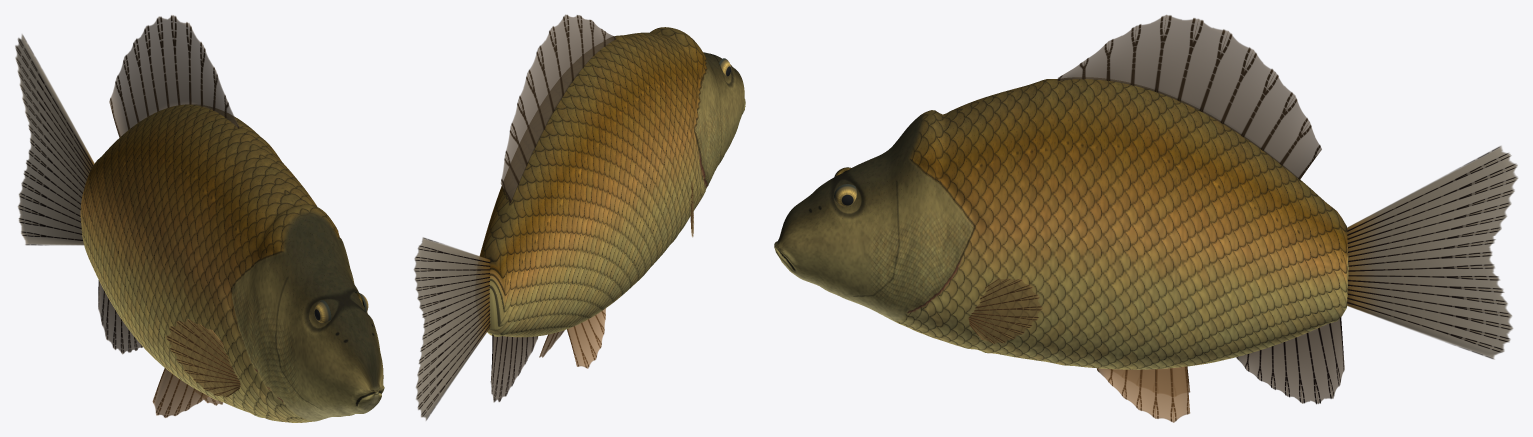
The model's file is karas.glb.
3 renders of one model, left to right at view 1: azimuth 30°, elevation 25°; view 2: azimuth 150°, elevation 25°; view 3: azimuth 270°, elevation 25°, orthographic. The views are drawn at different scales.
Parts seen in each view (by area): view 1: Body, FinCaudal, FinDorsal1, FinPectoral, FinPelvic, FinAnal; view 2: Body, FinCaudal, FinDorsal1, FinAnal, FinPelvic; view 3: Body, FinCaudal, FinDorsal1, FinAnal, FinPelvic, FinPectoral.
Part boxes in pixels (x1,y1,x2,y2): Body: [80, 104, 384, 422]; FinCaudal: [15, 34, 94, 245]; FinDorsal1: [109, 15, 239, 137]; FinPectoral: [166, 319, 240, 397]; FinPelvic: [152, 368, 222, 417]; FinAnal: [98, 280, 142, 354]; Body: [479, 27, 745, 337]; FinCaudal: [413, 237, 490, 420]; FinDorsal1: [501, 14, 615, 203]; FinAnal: [490, 334, 537, 402]; FinPelvic: [539, 308, 605, 368]; Body: [774, 78, 1348, 369]; FinCaudal: [1347, 146, 1517, 359]; FinDorsal1: [1057, 15, 1321, 179]; FinAnal: [1236, 317, 1344, 404]; FinPelvic: [1097, 366, 1190, 422]; FinPectoral: [968, 278, 1042, 343].
Bounding box in the file's own units: 0.2557 × 0.5895 × 0.9999.
Materials: 8 (7 with a texture image).
